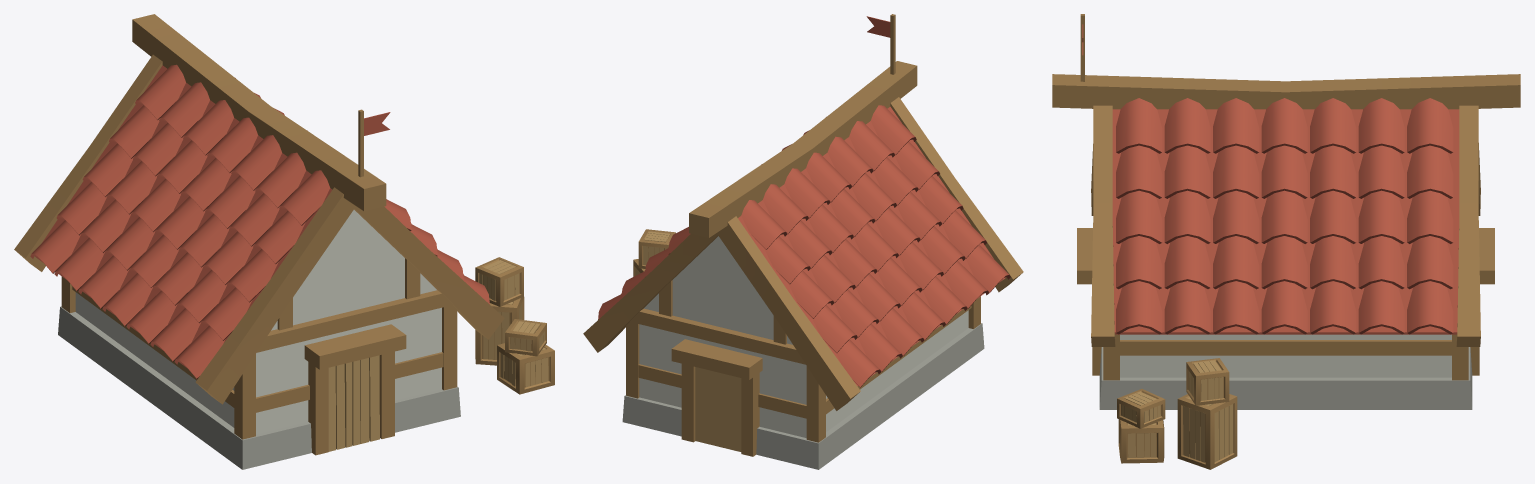
Rendered from House.glb.
3 renders of one model, left to right at view 1: azimuth 30°, elevation 25°; view 2: azimuth 150°, elevation 25°; view 3: azimuth 270°, elevation 25°, orthographic. The views are drawn at different scales.
Visible parts, largest first — view 1: Houses_SecondAge_1_Level2; view 2: Houses_SecondAge_1_Level2; view 3: Houses_SecondAge_1_Level2.
Boxes of the visible parts, x1,y1,x2,y2 form: Houses_SecondAge_1_Level2: (14, 14, 554, 469); Houses_SecondAge_1_Level2: (583, 14, 1023, 469); Houses_SecondAge_1_Level2: (1052, 14, 1520, 469).
Bounding box in the file's own units: 1.11 × 0.9521 × 1.17.
